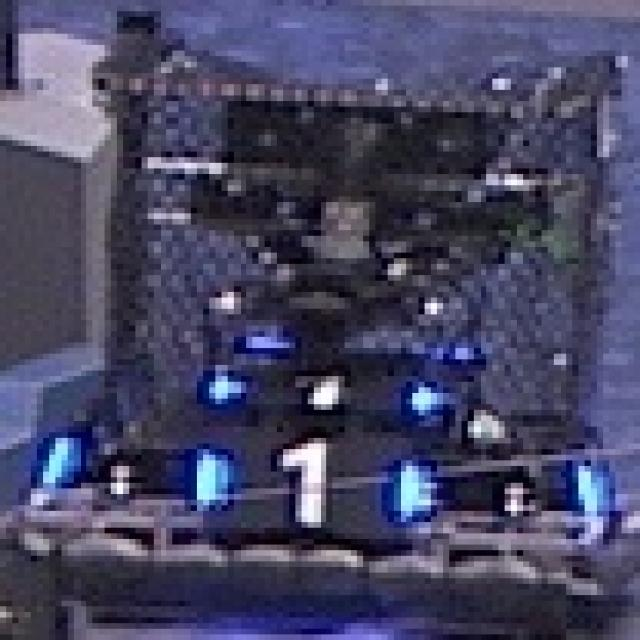B1: (184, 432, 430, 534)
